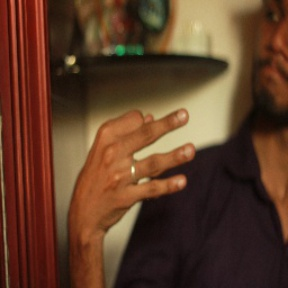K: (70, 105, 207, 215)
